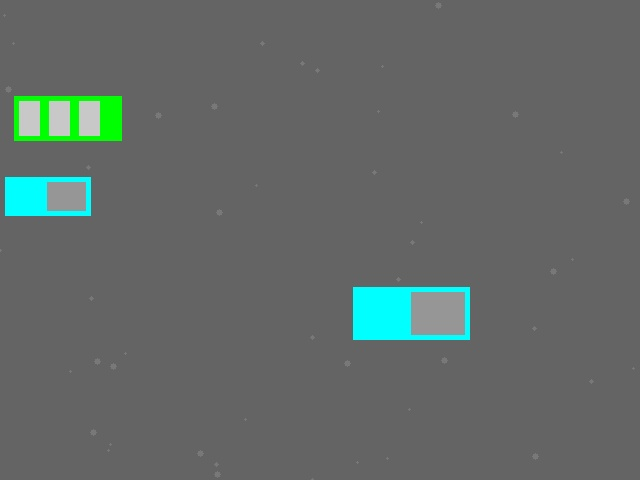bus: (14, 96, 121, 140)
truck: (353, 287, 469, 339), (5, 177, 90, 215)
